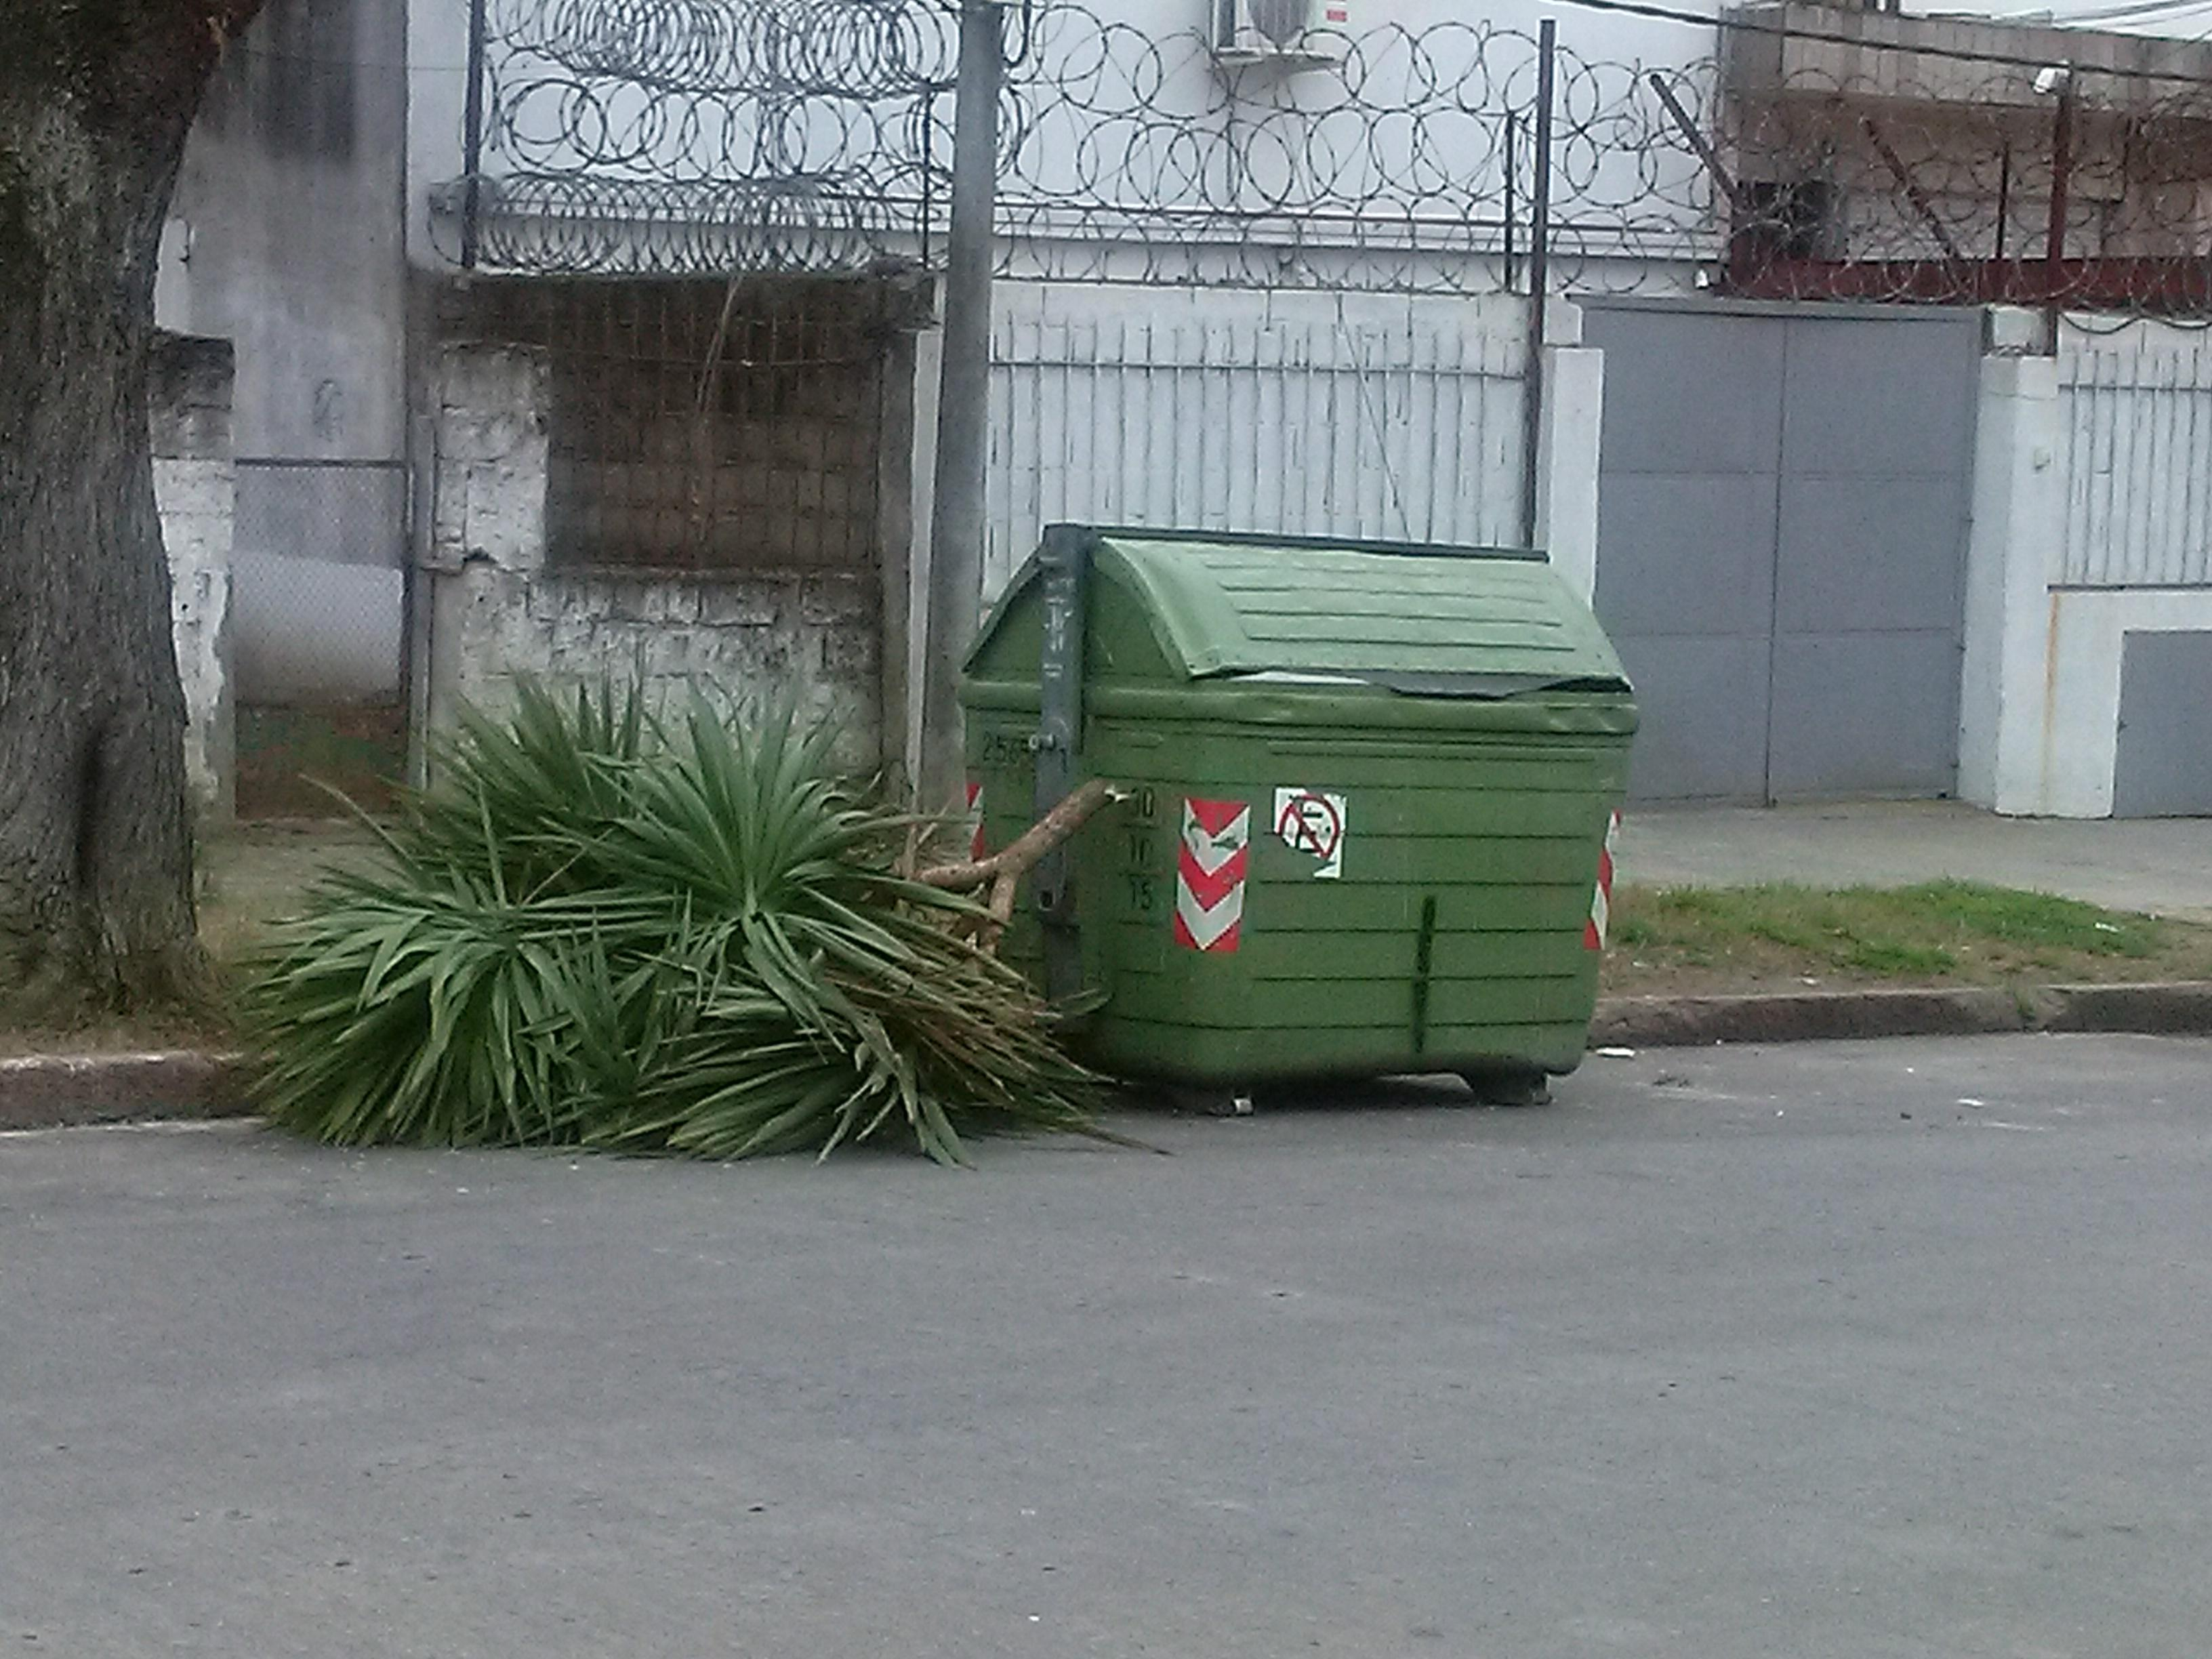Dechets: (233, 671, 951, 1209), (1592, 1019, 1648, 1073)
Trash: (951, 500, 1653, 1117)
